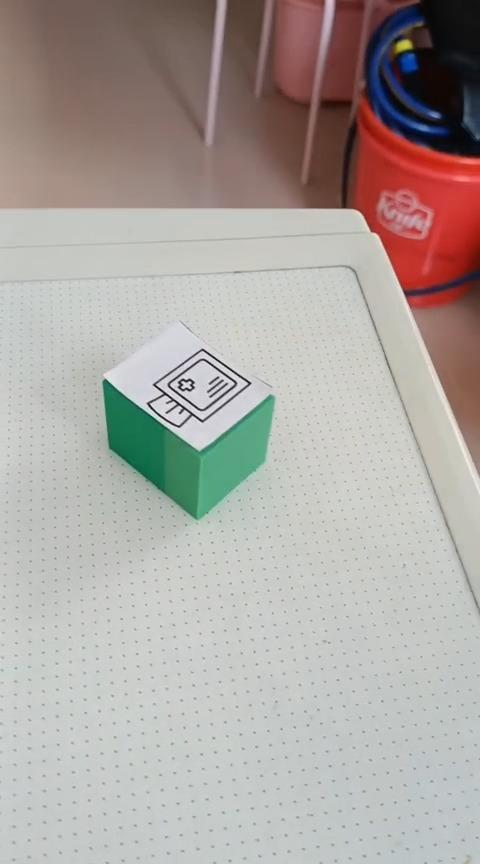Gauze: (101, 318, 275, 520)
